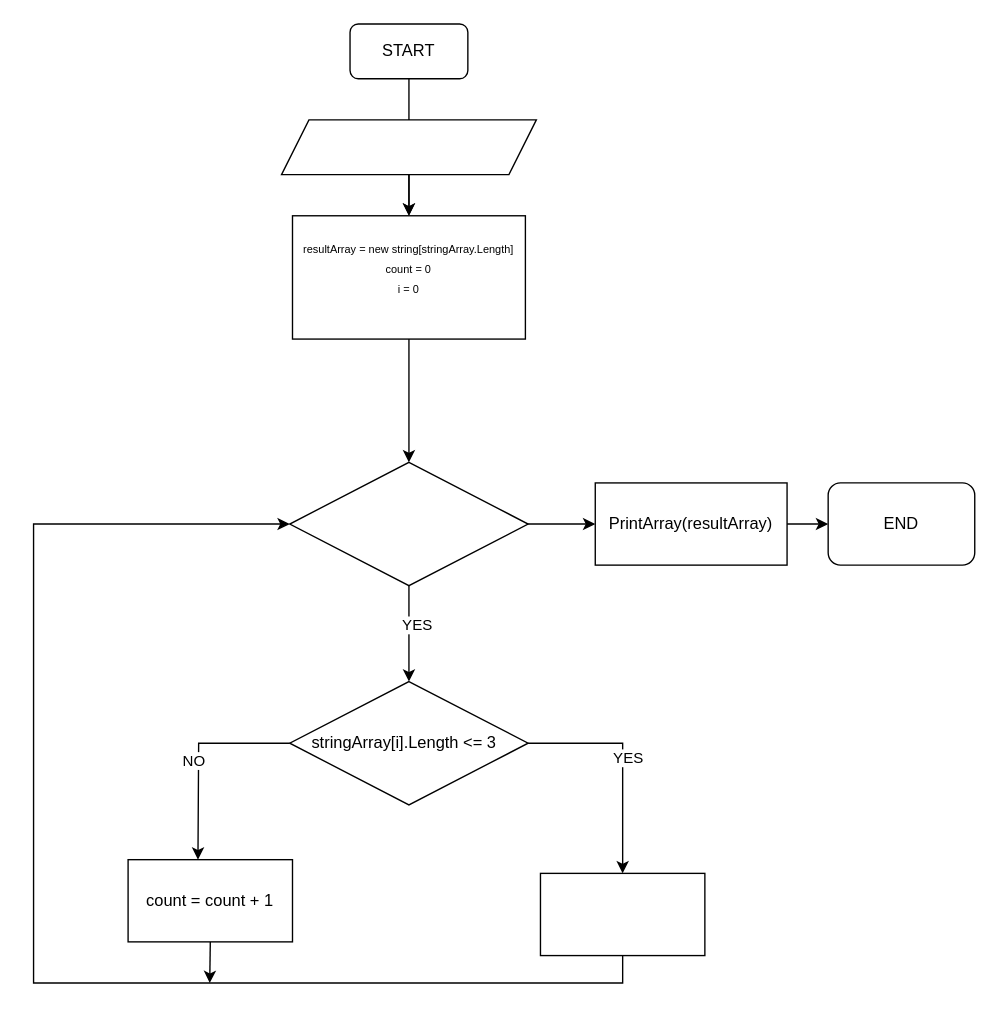
Image size: 999x1018. Some labels were removed from this diagram. The centre of each missing label's shape, as x and y in pixels:
"i < stringArray.Length" belongs at point (408, 523).
"resultArray[count] = stringArray[i] count = count + 1" belongs at point (622, 914).
"stringArray" belongs at point (408, 147).
